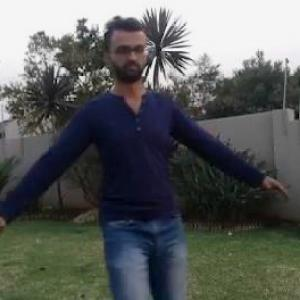land: (61, 78, 225, 278)
